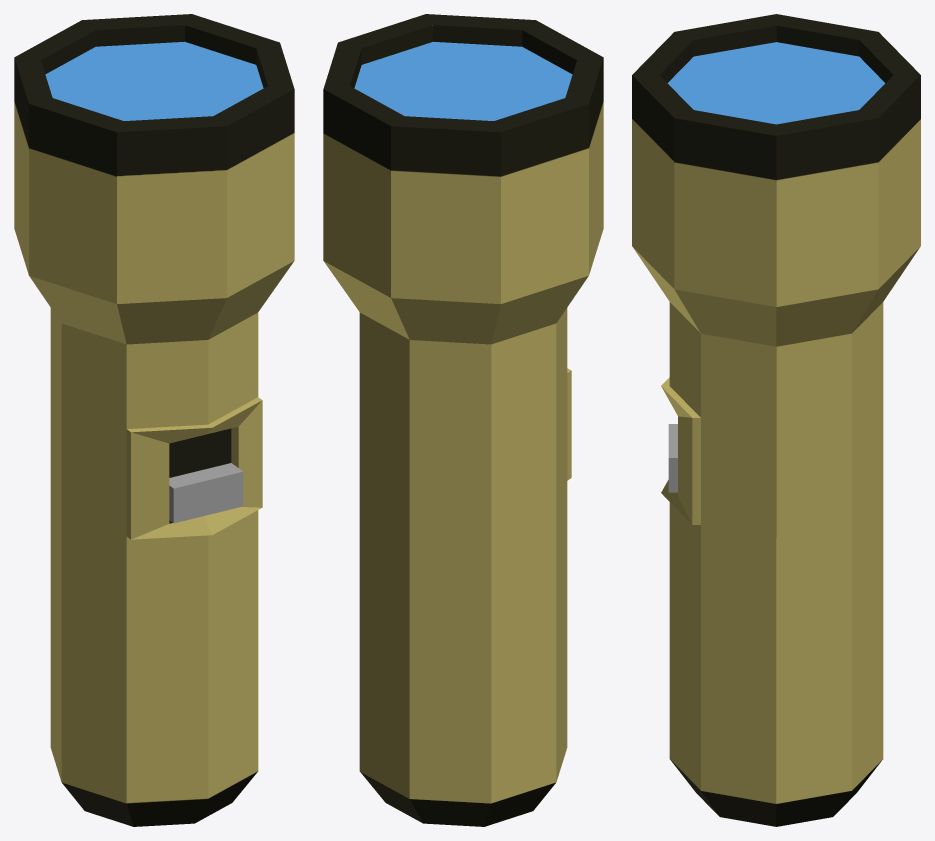
The model's file is Flashlight.glb.
3 views of the same model, side by side, from view 1: azimuth 30°, elevation 25°; view 2: azimuth 150°, elevation 25°; view 3: azimuth 270°, elevation 25° (orthographic).
Parts seen in each view (by area): view 1: Cylinder; view 2: Cylinder; view 3: Cylinder.
Boxes of the visible parts, left/top/right/bottom form: Cylinder: left=14, top=14, right=294, bottom=826; Cylinder: left=323, top=14, right=603, bottom=826; Cylinder: left=632, top=14, right=920, bottom=826.
Bounding box in the file's own units: 0.0805 × 0.2208 × 0.0805.
1 material, 1 textured.
